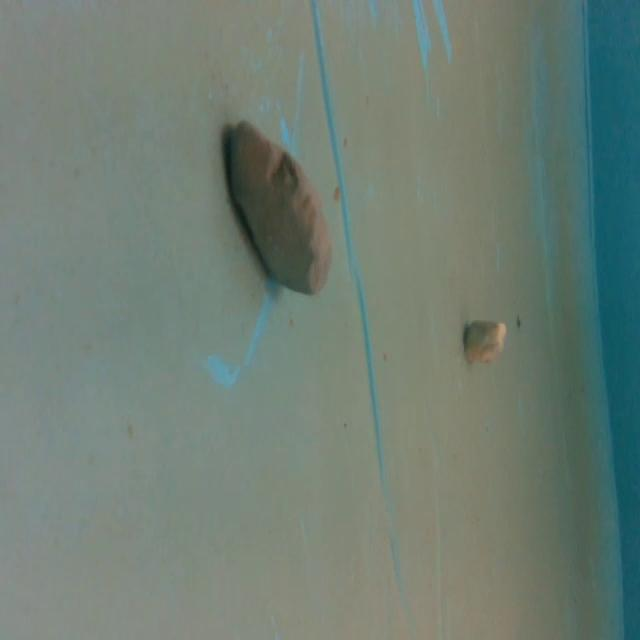rock: (218, 112, 342, 304), (460, 309, 505, 377)
